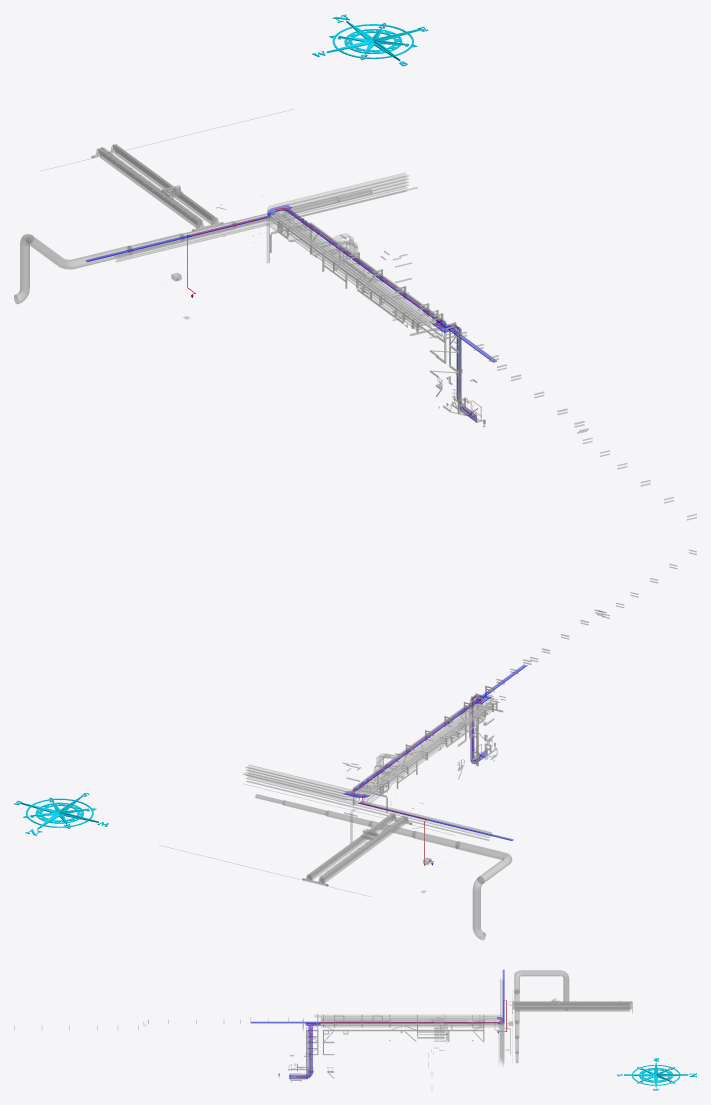
File: mini_model.glb
3 views of the same model, one above another, from view 1: azimuth 30°, elevation 25°; view 2: azimuth 150°, elevation 25°; view 3: azimuth 270°, elevation 25° (orthographic). The views are drawn at different scales.
Parts seen in each view (by area): view 1: IfcBuildingElementProxy/None.30545, IfcBuildingElementProxy/None.30748, Compass, IfcBuildingElementProxy/None.30132, IfcBuildingElementProxy/None.30003, IfcBuildingElementProxy/None.30166; view 2: IfcBuildingElementProxy/None.30545, IfcBuildingElementProxy/None.30748, Compass, IfcBuildingElementProxy/None.30132, IfcBuildingElementProxy/None.30003, IfcBuildingElementProxy/None.30166; view 3: IfcBuildingElementProxy/None.30748, IfcBuildingElementProxy/None.30545, Compass, IfcBuildingElementProxy/None.30003, IfcBuildingElementProxy/None.30353, IfcBuildingElementProxy/None.30166, SelectedCableRoute, IfcBuildingElementProxy/None.30427.
Boxes of the visible parts, x1=… form: IfcBuildingElementProxy/None.30545: x1=14, y1=189, x2=372, y2=304; IfcBuildingElementProxy/None.30748: x1=41, y1=109, x2=293, y2=244; Compass: x1=312, y1=14, x2=428, y2=66; IfcBuildingElementProxy/None.30132: x1=335, y1=234, x2=696, y2=520; IfcBuildingElementProxy/None.30003: x1=281, y1=220, x2=422, y2=320; IfcBuildingElementProxy/None.30166: x1=296, y1=226, x2=435, y2=326; IfcBuildingElementProxy/None.30545: x1=255, y1=794, x2=512, y2=940; IfcBuildingElementProxy/None.30748: x1=159, y1=783, x2=454, y2=896; Compass: x1=14, y1=793, x2=108, y2=835; IfcBuildingElementProxy/None.30132: x1=343, y1=549, x2=696, y2=816; IfcBuildingElementProxy/None.30003: x1=375, y1=701, x2=493, y2=784; IfcBuildingElementProxy/None.30166: x1=364, y1=706, x2=480, y2=789; IfcBuildingElementProxy/None.30748: x1=512, y1=990, x2=632, y2=1062; IfcBuildingElementProxy/None.30545: x1=514, y1=970, x2=569, y2=1063; Compass: x1=617, y1=1058, x2=696, y2=1090; IfcBuildingElementProxy/None.30003: x1=321, y1=1015, x2=481, y2=1017; IfcBuildingElementProxy/None.30353: x1=321, y1=1021, x2=481, y2=1023; IfcBuildingElementProxy/None.30166: x1=321, y1=1025, x2=481, y2=1027; SelectedCableRoute: x1=296, y1=1000, x2=506, y2=1077; IfcBuildingElementProxy/None.30427: x1=321, y1=1023, x2=442, y2=1025.
Size of what is drawn, in the model's own units: 72.52 by 15.81 by 148.
